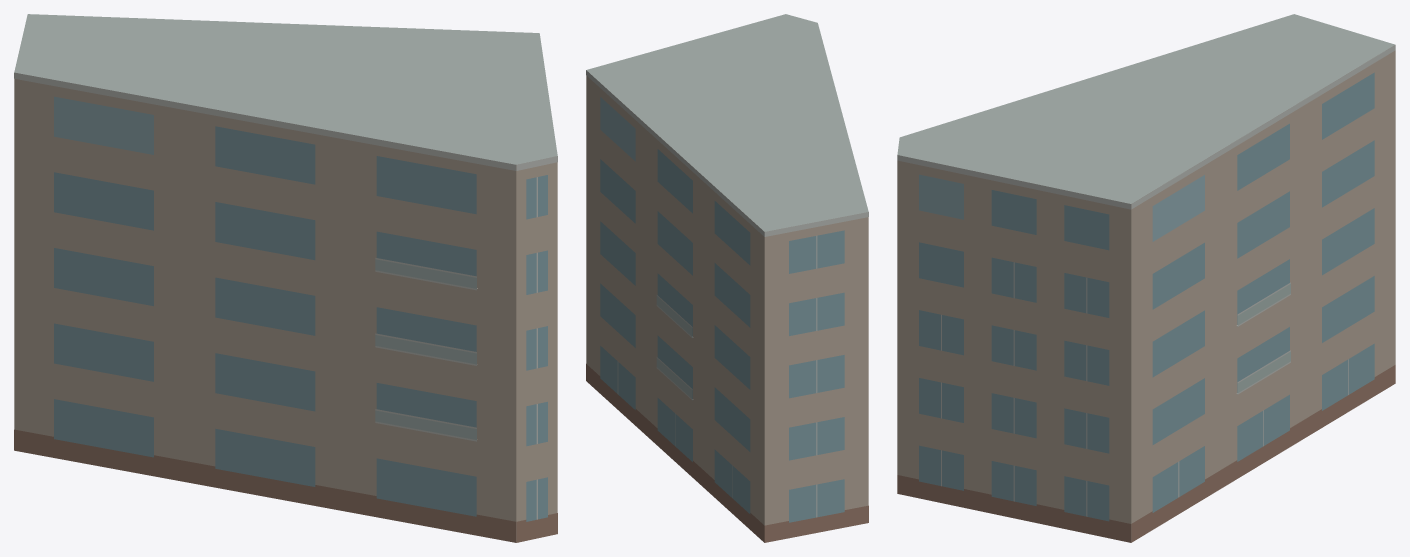
Rendered from survey-upis-32874594.glb.
The picture shows the model from 3 angles, left to right: view 1: azimuth 30°, elevation 25°; view 2: azimuth 150°, elevation 25°; view 3: azimuth 270°, elevation 25°; orthographic projection. The views are drawn at different scales.
Visible parts, largest first — view 1: survey-upis-32874594.tmp; view 2: survey-upis-32874594.tmp; view 3: survey-upis-32874594.tmp.
Part boxes in pixels (bbox=[...]): survey-upis-32874594.tmp: bbox=[14, 14, 557, 542]; survey-upis-32874594.tmp: bbox=[586, 14, 868, 542]; survey-upis-32874594.tmp: bbox=[897, 14, 1395, 542].
Bounding box in the file's own units: 17.81 × 14.8 × 19.73.
